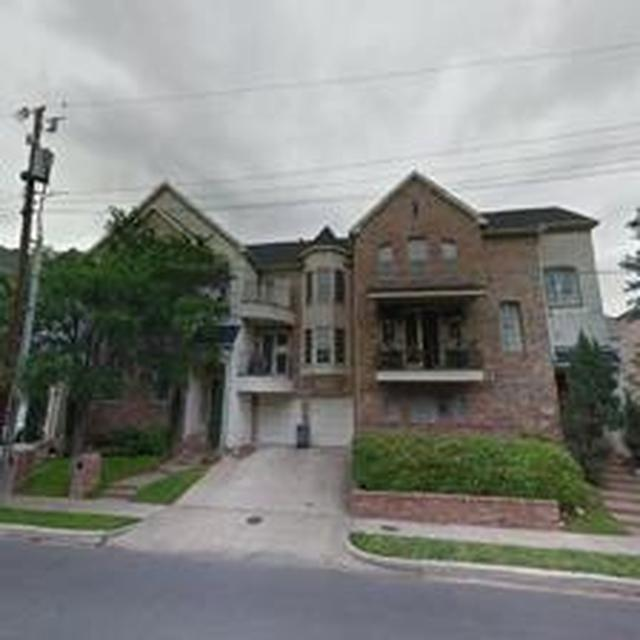building: (99, 165, 622, 460)
